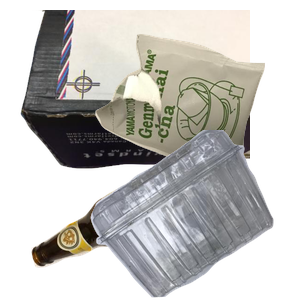cardboard: (18, 10, 258, 171)
glass: (29, 150, 238, 300)
plastic: (88, 130, 300, 300)
trash: (93, 31, 300, 205)
